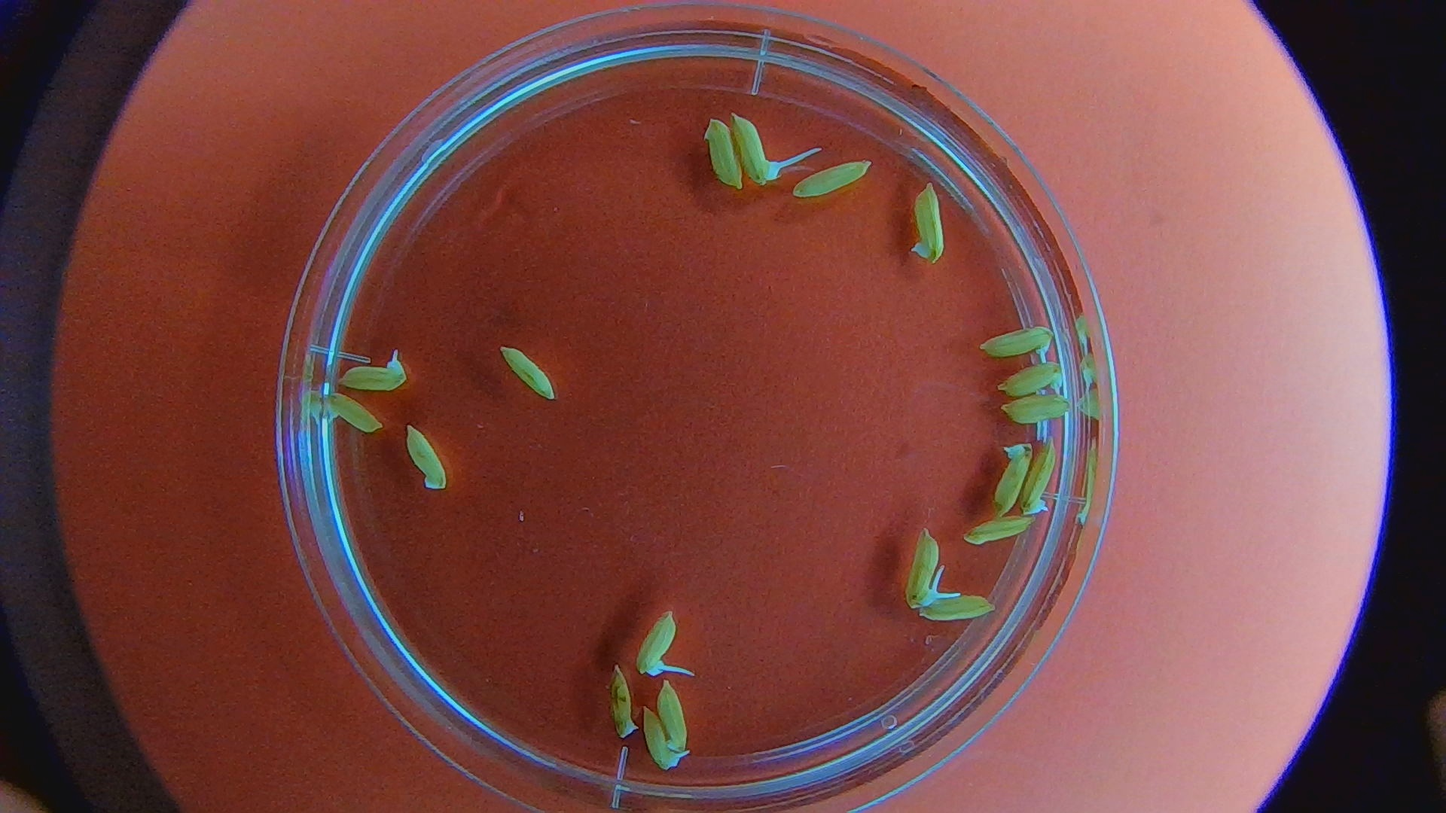no: (783, 154, 885, 206), (493, 343, 566, 402), (905, 179, 953, 266), (1018, 438, 1063, 523), (700, 112, 746, 195), (401, 414, 447, 496), (321, 386, 383, 440), (989, 440, 1033, 516), (603, 663, 641, 744), (1001, 394, 1077, 430), (657, 676, 689, 752)
yes: (334, 351, 415, 394), (977, 317, 1052, 362), (727, 120, 775, 190), (636, 607, 681, 673), (921, 587, 990, 625), (908, 526, 938, 608), (640, 710, 679, 773), (996, 362, 1063, 395)
